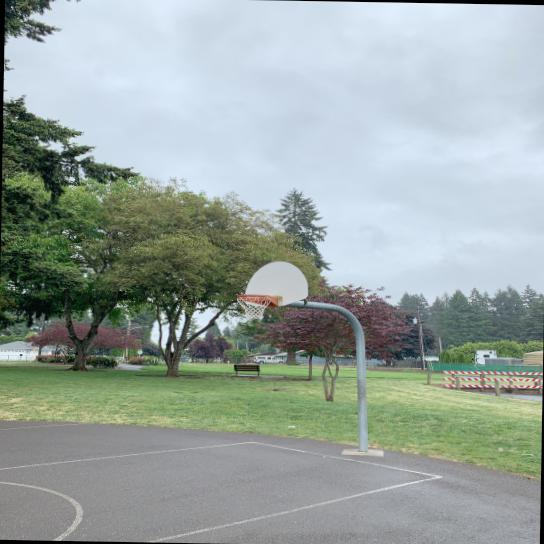basketball-hoop: (235, 292, 271, 321)
